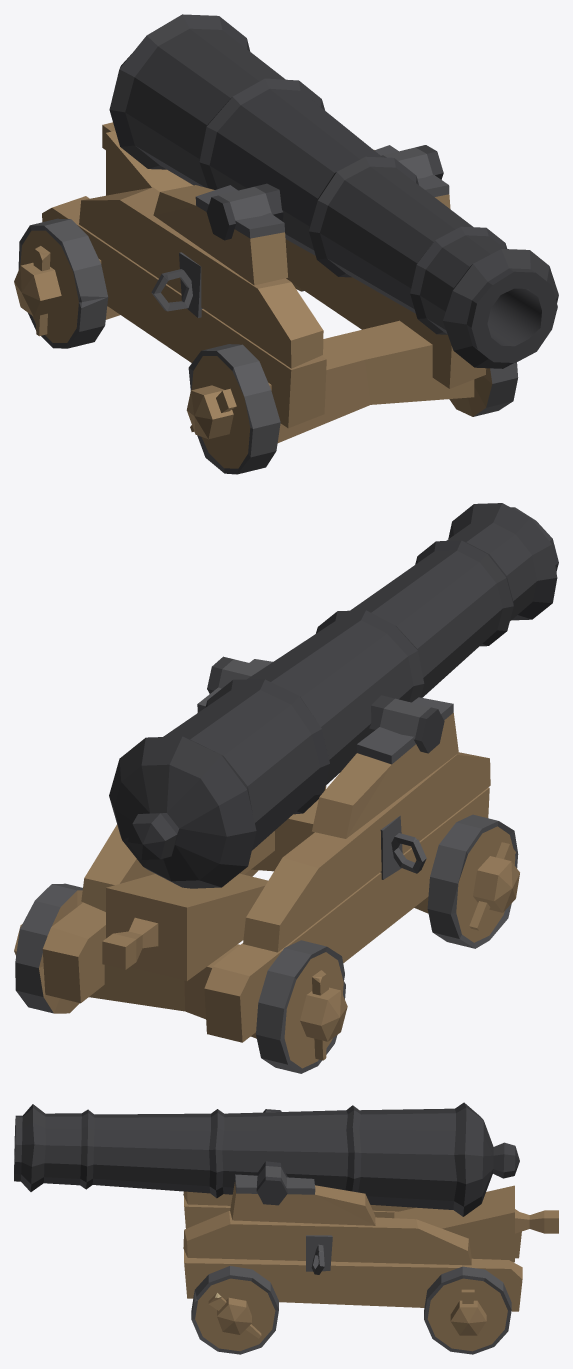
Rendered from Cannon.fbx.
3 views of the same model, one above another, from view 1: azimuth 30°, elevation 25°; view 2: azimuth 150°, elevation 25°; view 3: azimuth 270°, elevation 25° (orthographic). The views are drawn at different scales.
Visible parts, largest first — view 1: TwP_weap_Cannon_01; view 2: TwP_weap_Cannon_01; view 3: TwP_weap_Cannon_01.
Boxes of the visible parts, x1,y1,x2,y2 form: TwP_weap_Cannon_01: (14,14,558,474); TwP_weap_Cannon_01: (14,503,558,1073); TwP_weap_Cannon_01: (14,1102,558,1354).
Size of the model in its own units: 0.9906 by 0.8914 by 2.17.
1 material, 1 textured.
